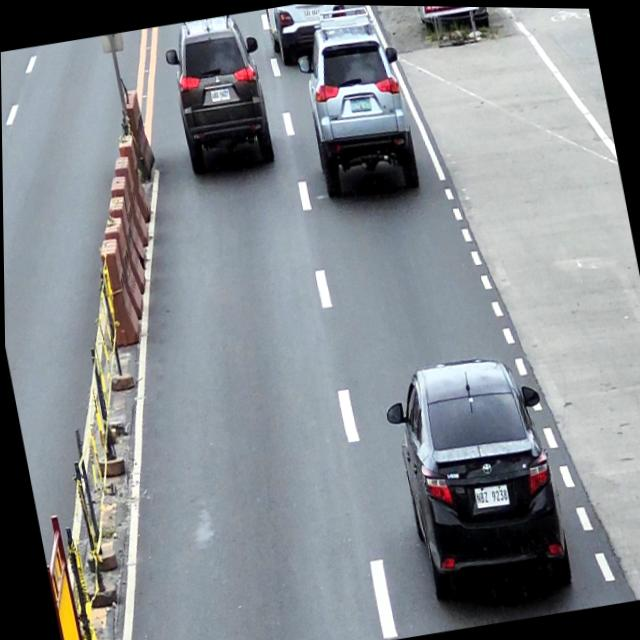Car: (375, 345, 574, 611), (289, 3, 423, 204), (159, 9, 280, 178), (265, 3, 355, 69)
License-Plate: (472, 481, 509, 507), (350, 95, 372, 113), (209, 86, 230, 102), (303, 5, 321, 17)
